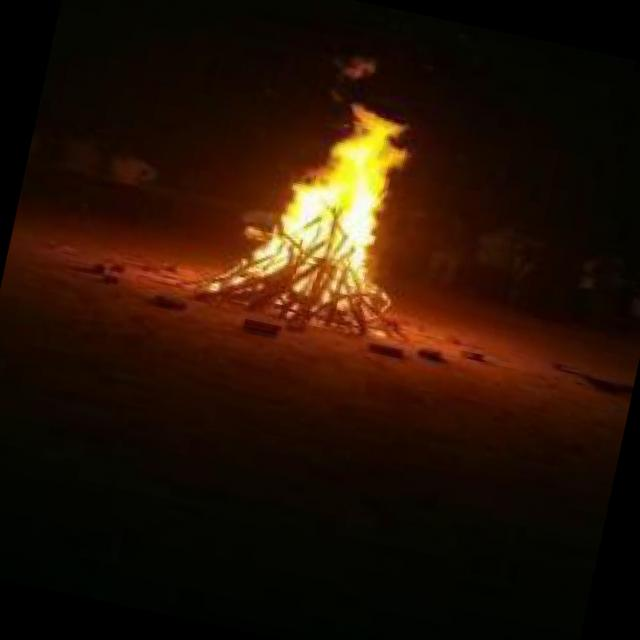fire: (226, 66, 430, 314)
